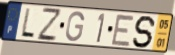1: (95, 13, 106, 45)
E: (110, 12, 136, 48)
G: (64, 10, 86, 43)
L: (19, 7, 36, 40)
S: (131, 14, 158, 49)
Z: (36, 6, 62, 43)
